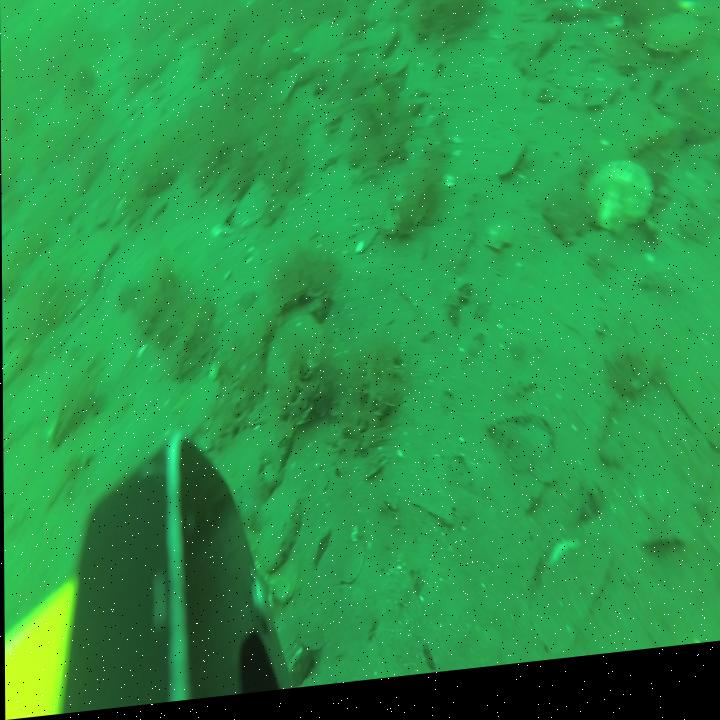scallop: (585, 161, 657, 255), (264, 312, 326, 403), (641, 20, 702, 79), (178, 373, 222, 450), (231, 182, 277, 242), (481, 221, 517, 266), (365, 0, 406, 36)
